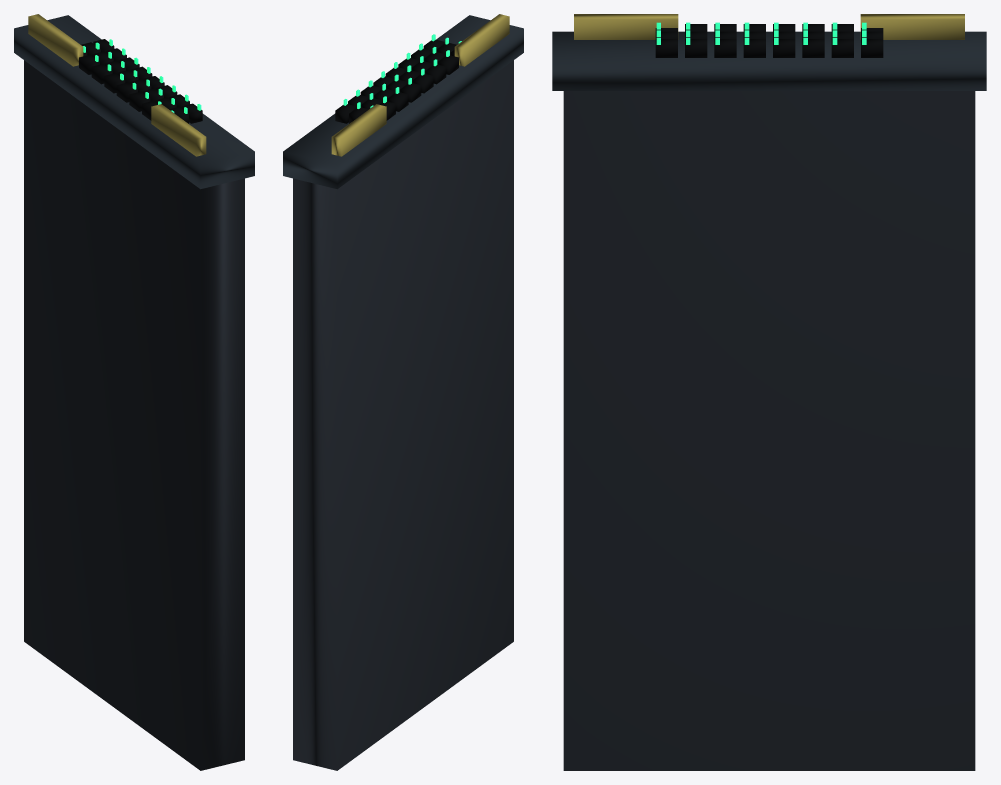
Rendered from module_linecard_24sfp.glb.
3 renders of one model, left to right at view 1: azimuth 30°, elevation 25°; view 2: azimuth 150°, elevation 25°; view 3: azimuth 270°, elevation 25°, orthographic. The views are drawn at different scales.
Visible parts, largest first — view 1: linecard_body, linecard_face, ejector_top, ejector_bottom; view 2: linecard_body, linecard_face, ejector_bottom, ejector_top; view 3: linecard_body, linecard_face, ejector_top, ejector_bottom.
Part boxes in pixels (x1,y1,x2,y2): linecard_body: (24,60,244,770); linecard_face: (14,15,254,189); ejector_top: (151,104,206,156); ejector_bottom: (28,14,83,66); linecard_body: (293,60,513,770); linecard_face: (283,15,523,189); ejector_bottom: (331,104,386,156); ejector_top: (454,14,509,66); linecard_body: (563,91,975,770); linecard_face: (552,31,986,90); ejector_top: (574,14,678,39); ejector_bottom: (860,14,964,39).
Bounding box in the file's own units: 0.0325 × 0.359 × 0.193.
